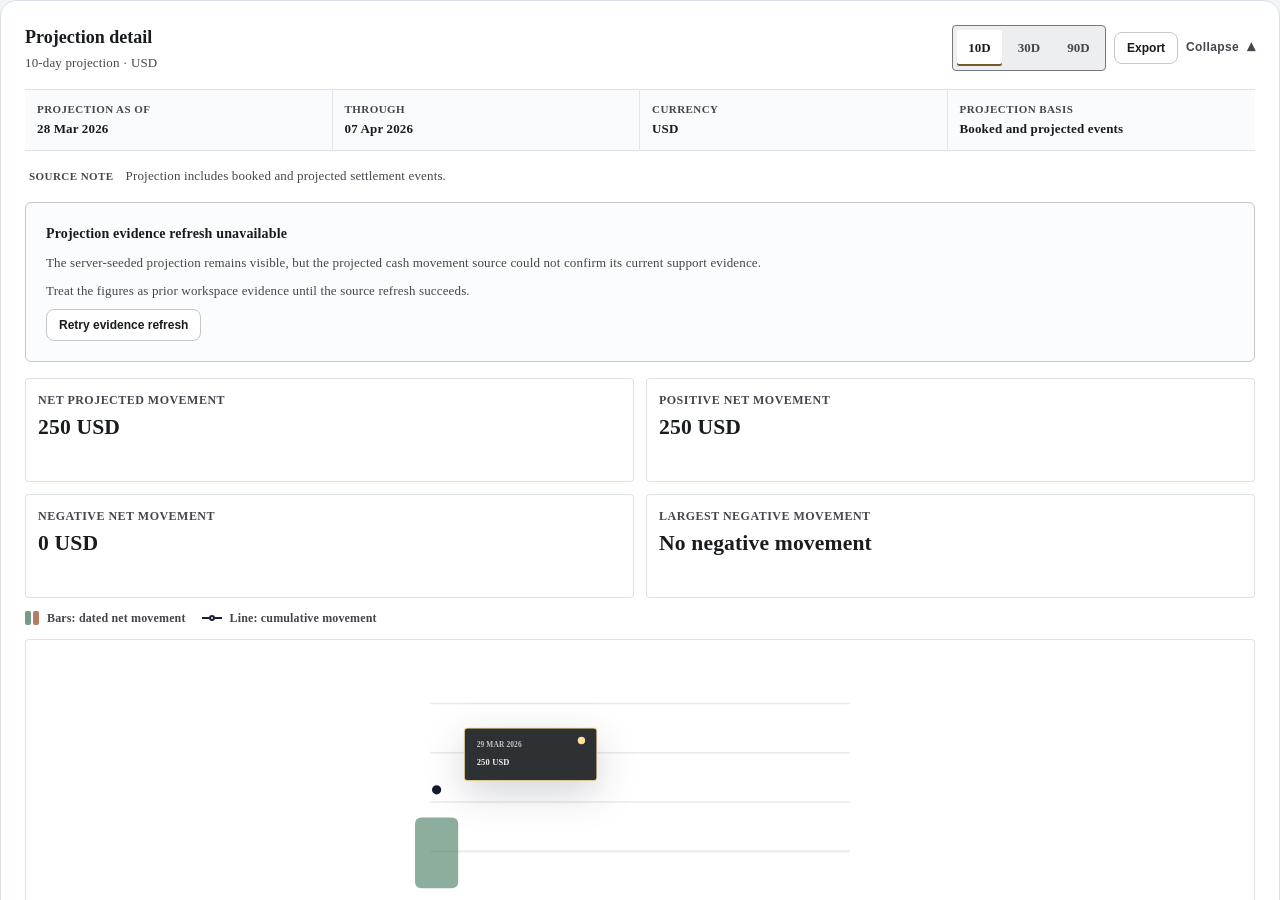
Test case: PortfolioProjectedCashflowModule › marks seeded figures unconfirmed and retries when envelope hydration fails
Check: the element named "Projected cash movement summary" is shown, box [25, 378, 1255, 598]
Check: the heading "Projection evidence refresh unavailable" is shown, box [46, 223, 287, 245]
Click the button "Retry evidence refresh" at (124, 325), box [46, 309, 201, 341]
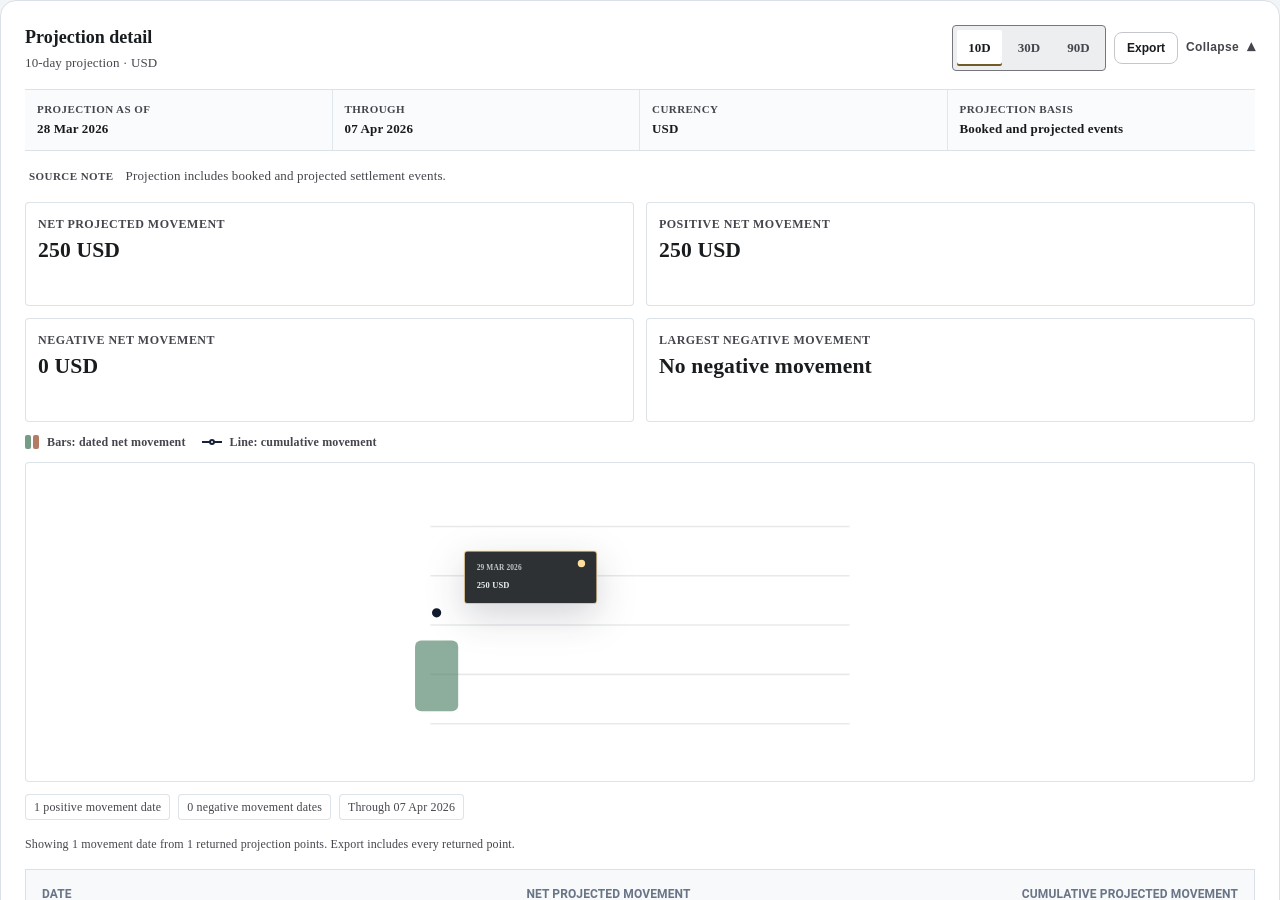
Check: the button "Export" is enabled, box [1114, 32, 1178, 64]
Check: the heading "Projection evidence refresh unavailable" is gone
